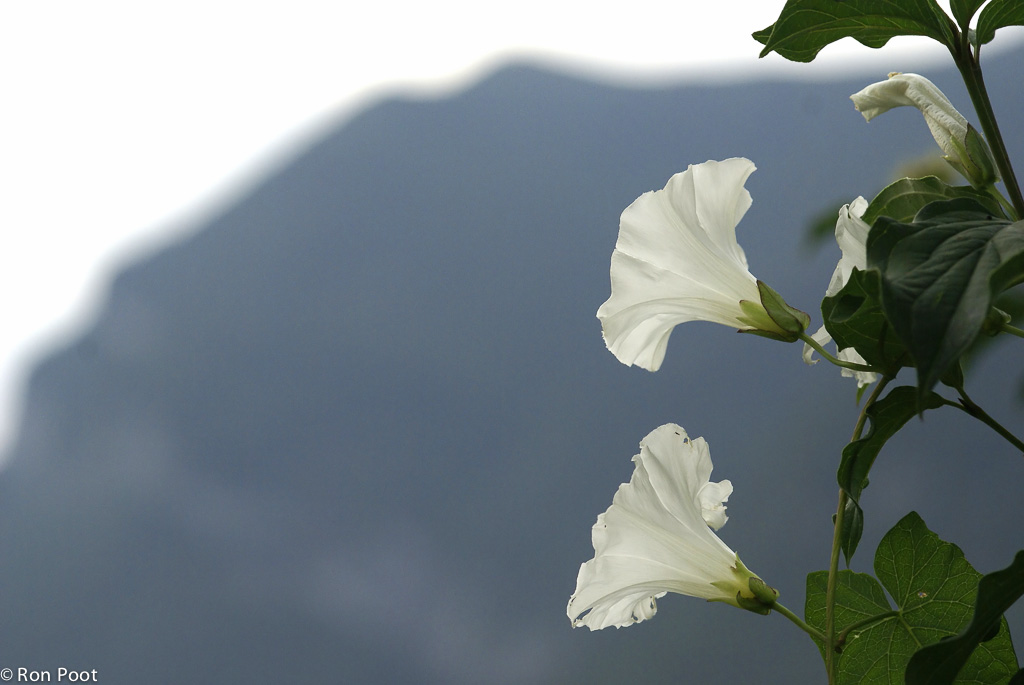haagwinde: (532, 401, 809, 685), (553, 145, 825, 410)
